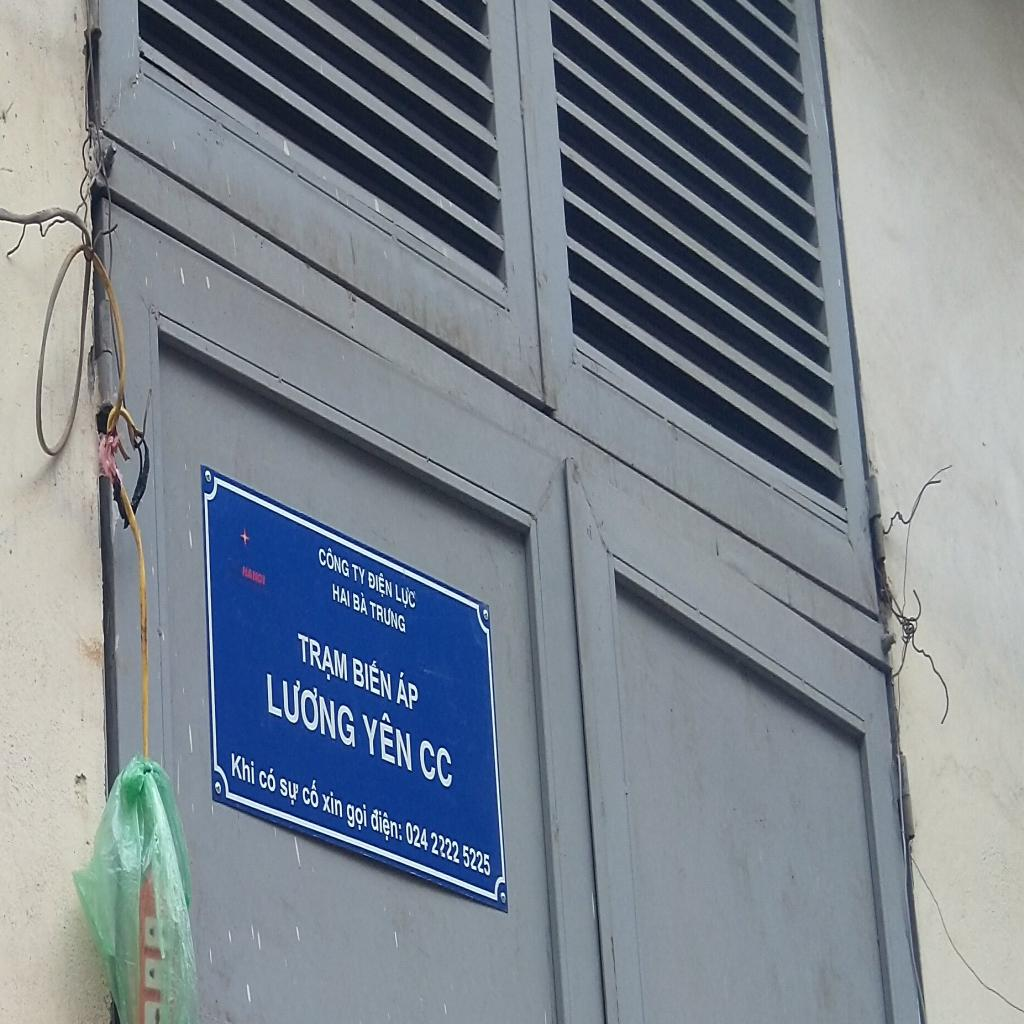text: (267, 662, 358, 752), (358, 703, 415, 776), (296, 629, 349, 689), (352, 651, 394, 705), (419, 736, 457, 792), (369, 599, 407, 638), (370, 804, 404, 847), (318, 540, 350, 580), (395, 668, 421, 716), (230, 748, 256, 788), (368, 566, 394, 601), (346, 801, 368, 837), (321, 788, 344, 820), (279, 773, 300, 808), (242, 562, 268, 589), (395, 582, 416, 615), (302, 776, 320, 814), (332, 580, 352, 609), (259, 764, 276, 796), (352, 587, 369, 618), (352, 561, 366, 586)
